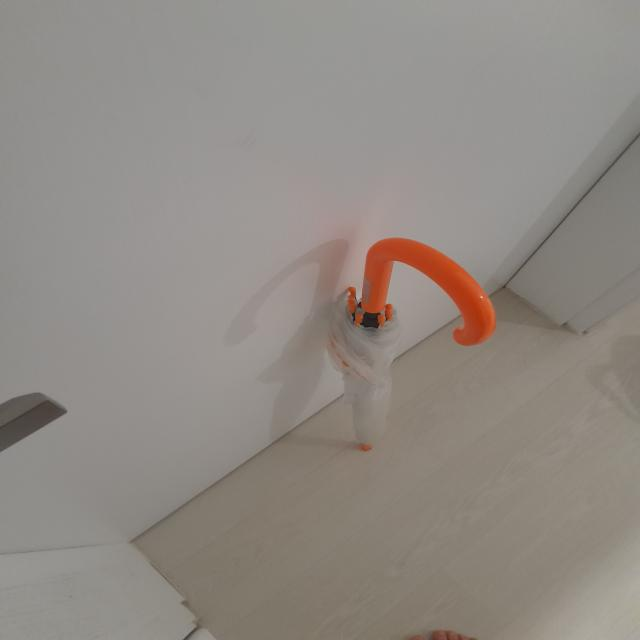umbrella: (328, 237, 493, 451)
